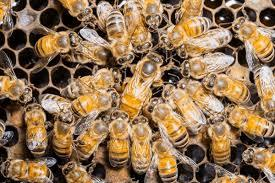Queen-Bee: (116, 48, 169, 116)
worker-bee: (162, 84, 215, 131), (147, 94, 191, 149), (235, 10, 275, 69), (26, 26, 86, 62), (102, 6, 138, 66), (157, 14, 213, 52), (226, 100, 275, 139), (202, 68, 253, 105), (148, 128, 181, 183), (123, 0, 158, 50), (244, 61, 275, 117), (75, 115, 114, 159), (65, 65, 120, 96), (177, 27, 233, 56), (179, 52, 233, 81), (130, 108, 152, 178), (206, 115, 233, 166), (0, 158, 57, 182), (68, 87, 120, 113), (110, 105, 130, 172), (23, 103, 48, 156), (53, 108, 76, 162), (0, 78, 36, 99)
